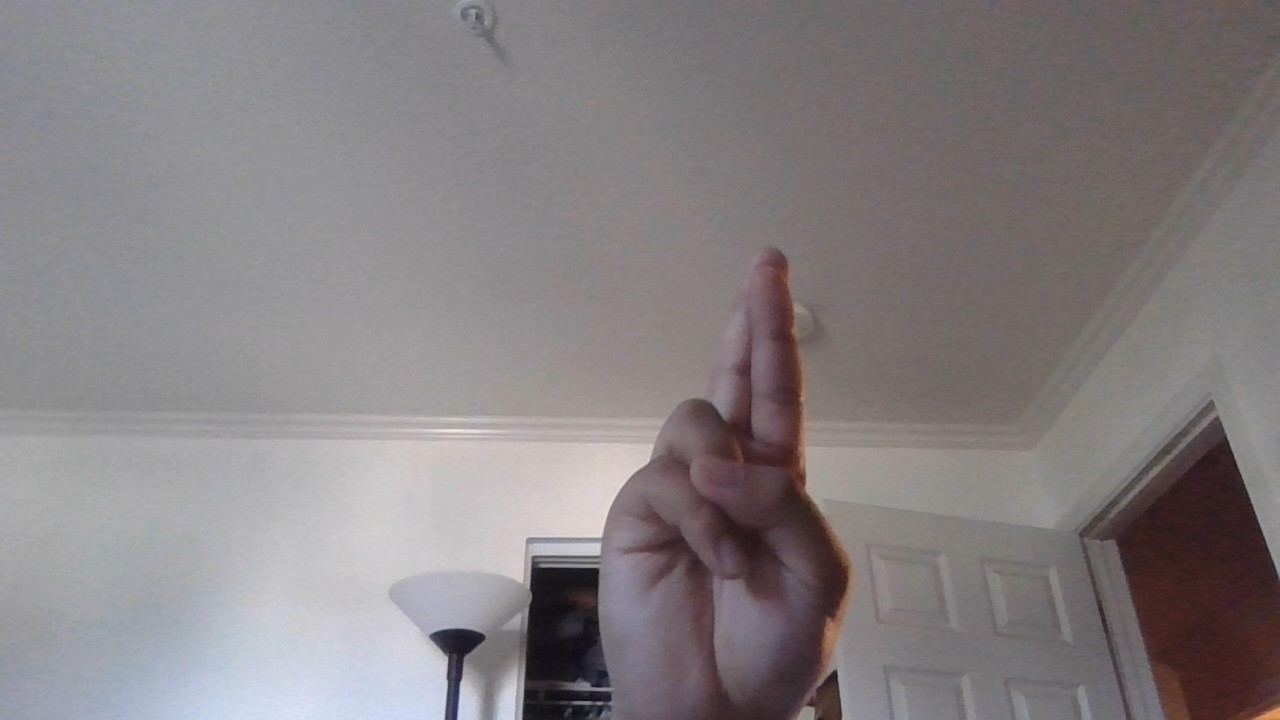r: (573, 243, 863, 720)
